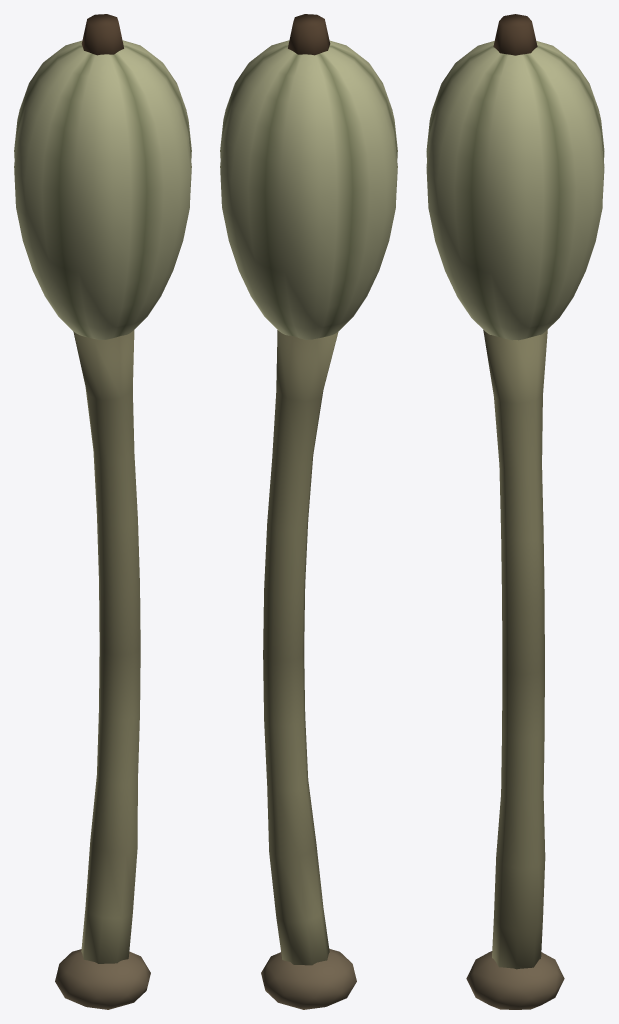
File: Siphusauctum.fbx
3 renders of one model, left to right at view 1: azimuth 30°, elevation 25°; view 2: azimuth 150°, elevation 25°; view 3: azimuth 270°, elevation 25°, orthographic.
Visible parts, largest first — view 1: Siphusauctum; view 2: Siphusauctum; view 3: Siphusauctum.
Boxes of the visible parts, x1,y1,x2,y2 form: Siphusauctum: (14,14,191,1009); Siphusauctum: (220,14,397,1009); Siphusauctum: (426,14,604,1009).
Bounding box in the file's own units: 0.2331 × 1.32 × 0.2173.
